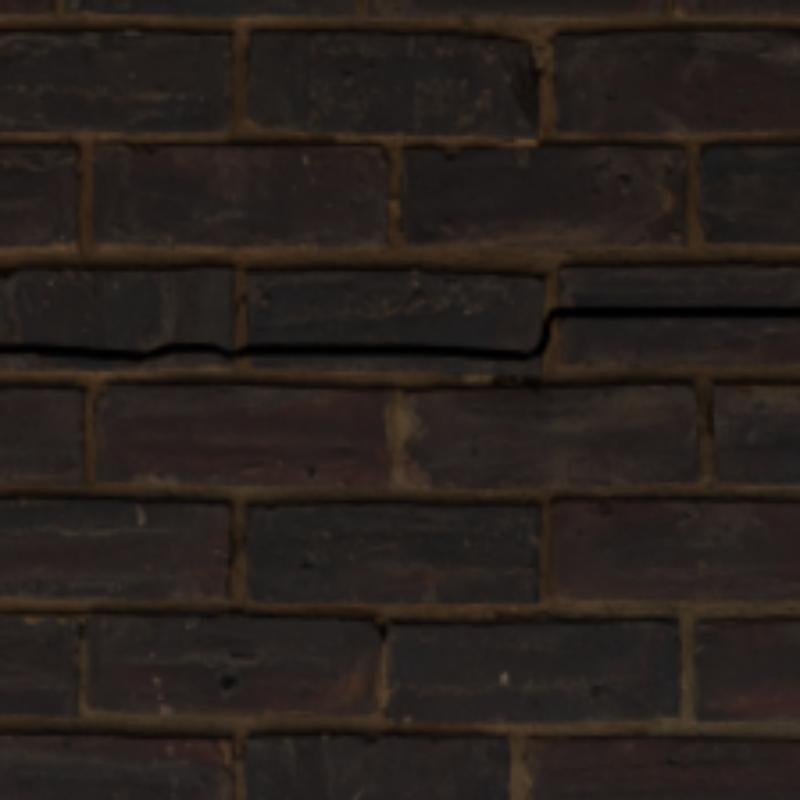pothole: (0, 307, 796, 357)
